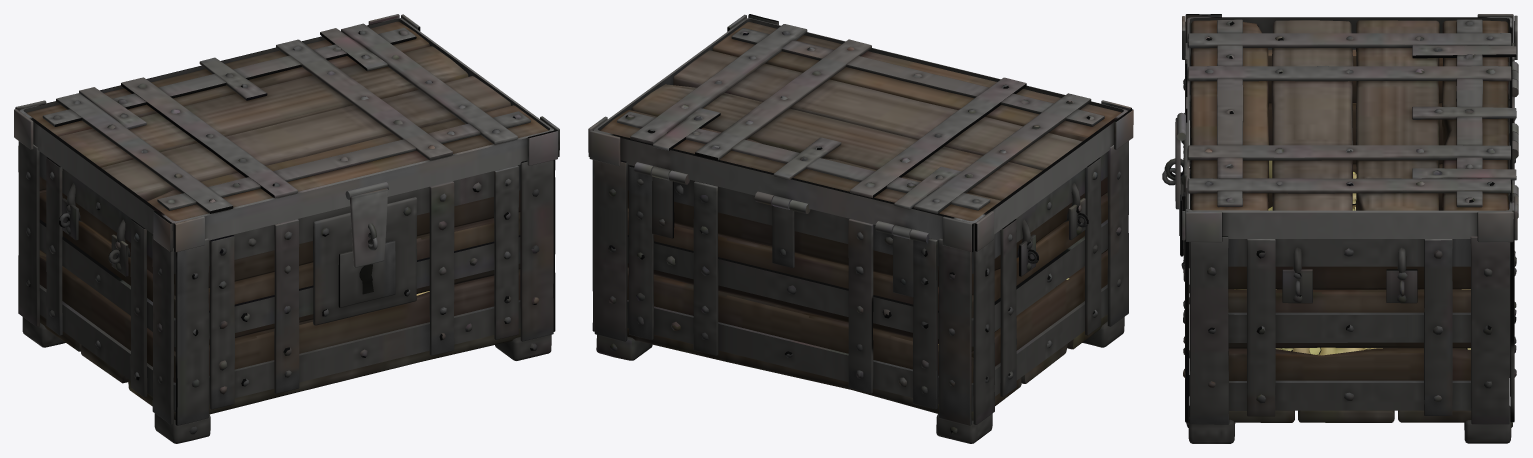
Rendered from strongbox.glb.
3 views of the same model, side by side, from view 1: azimuth 30°, elevation 25°; view 2: azimuth 150°, elevation 25°; view 3: azimuth 270°, elevation 25° (orthographic). The views are drawn at different scales.
Visible parts, largest first — view 1: strongbox, Lid, Lock; view 2: strongbox, Lid; view 3: Lid, strongbox, Lock, Contents.
Boxes of the visible parts, x1,y1,x2,y2 form: strongbox: (18,141,555,443); Lid: (14,14,559,252); Lock: (345,181,388,267); strongbox: (592,141,1128,443); Lid: (588,14,1133,252); Lid: (1182,14,1518,242); strongbox: (1164,43,1518,443); Lock: (1162,112,1185,209); Contents: (1235,160,1470,355).
Size of the model in its own units: 0.9429 by 0.5087 by 0.6848.
Materials: 1 (1 with a texture image).
